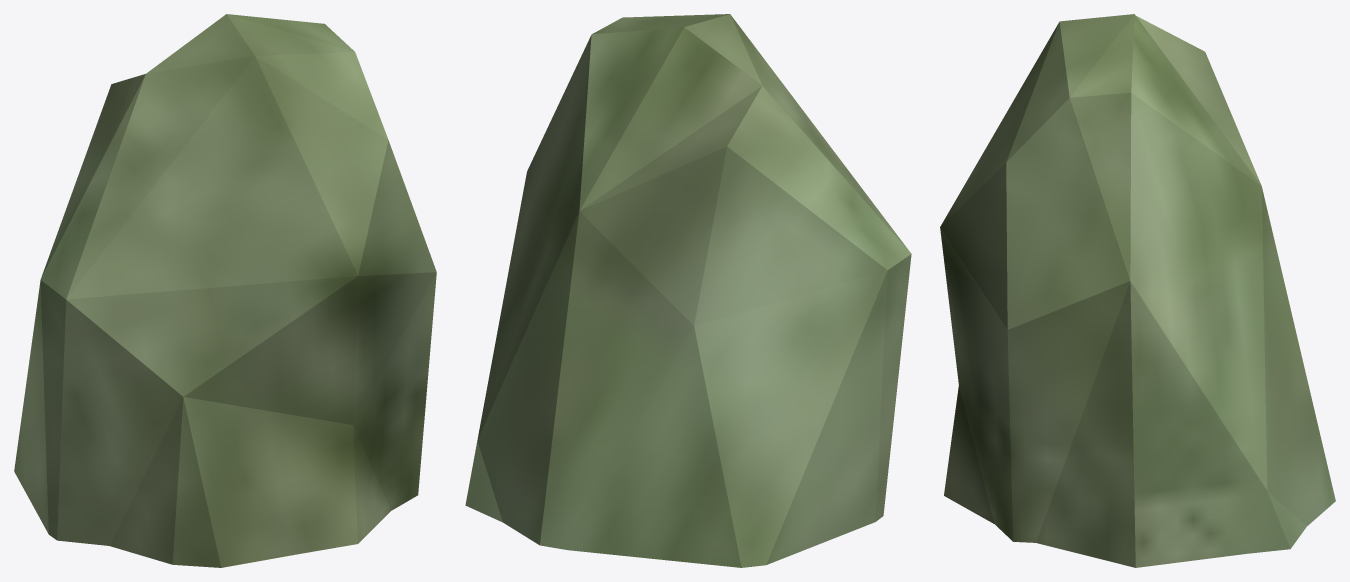
3 renders of one model, left to right at view 1: azimuth 30°, elevation 25°; view 2: azimuth 150°, elevation 25°; view 3: azimuth 270°, elevation 25°, orthographic. The views are drawn at different scales.
Size of the model in its own units: 0.534 by 0.6261 by 0.4834.
1 material, 1 textured.
